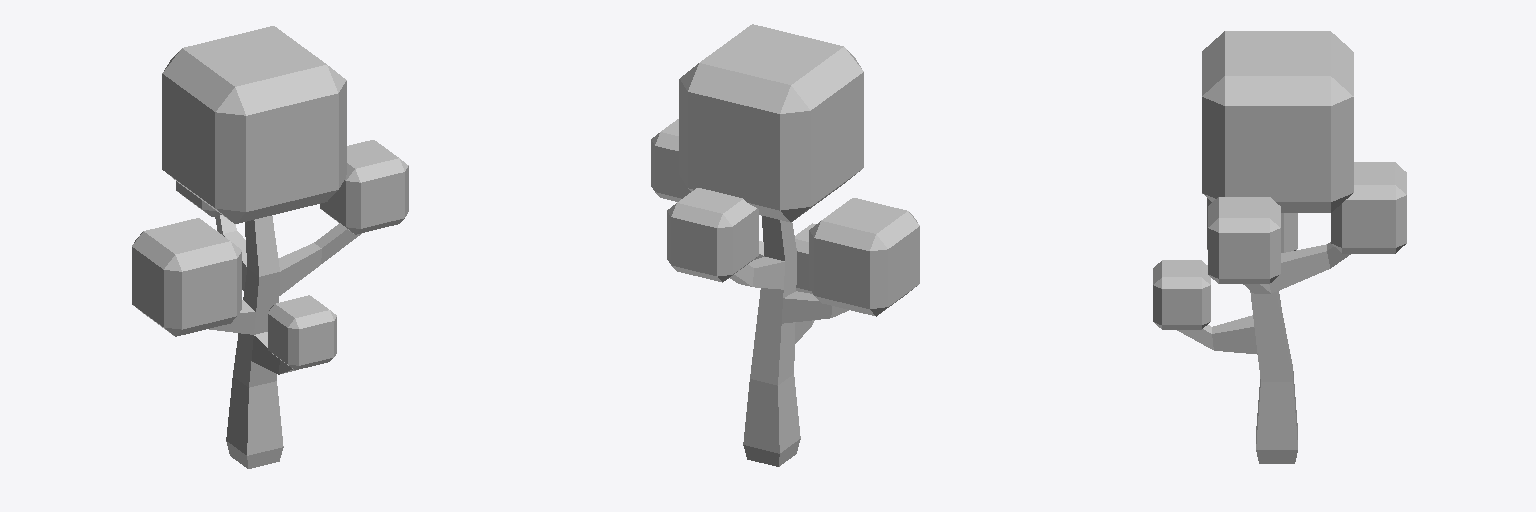
File: tree_detailed_dark.obj
3 views of the same model, side by side, from view 1: azimuth 30°, elevation 25°; view 2: azimuth 150°, elevation 25°; view 3: azimuth 270°, elevation 25° (orthographic).
Visible parts, largest first — view 1: tree_detailed_dark; view 2: tree_detailed_dark; view 3: tree_detailed_dark.
Part boxes in pixels (x1,y1,x2,y2): tree_detailed_dark: (132, 26, 408, 468); tree_detailed_dark: (651, 24, 919, 466); tree_detailed_dark: (1153, 31, 1406, 463).
Size of the model in its own units: 8.47 by 13.32 by 7.62.